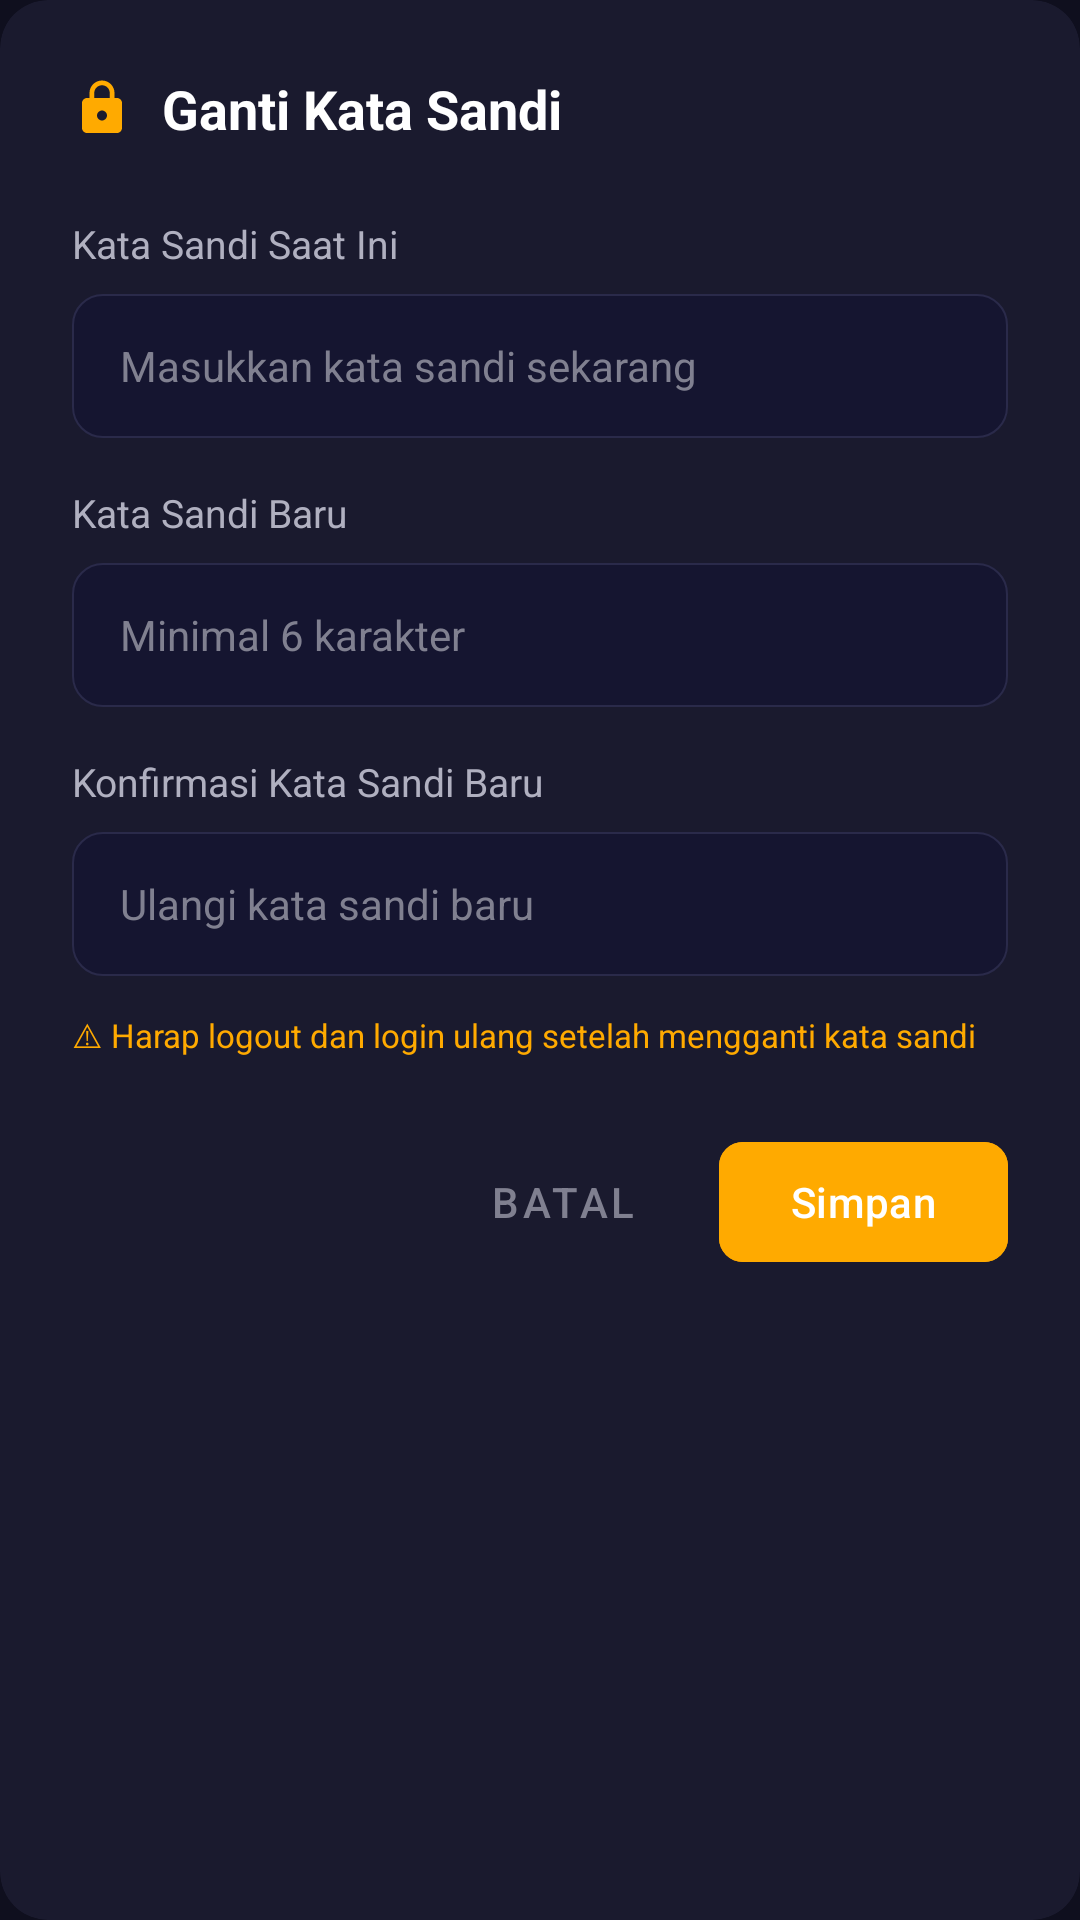

Icons on this 1080×1920 Android screen, each with its box as (x1, y1, x2, y2):
Lock: (82, 80, 122, 133)
